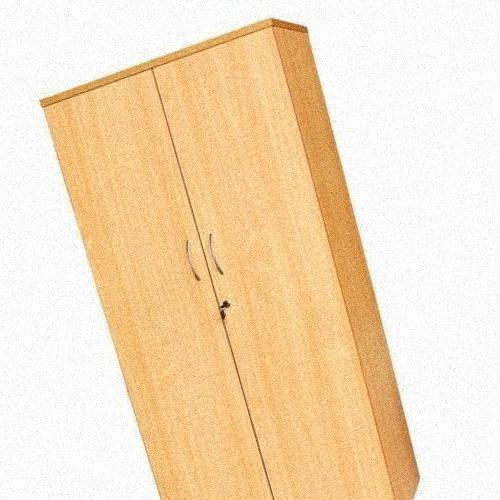Armario: (44, 18, 426, 491)
